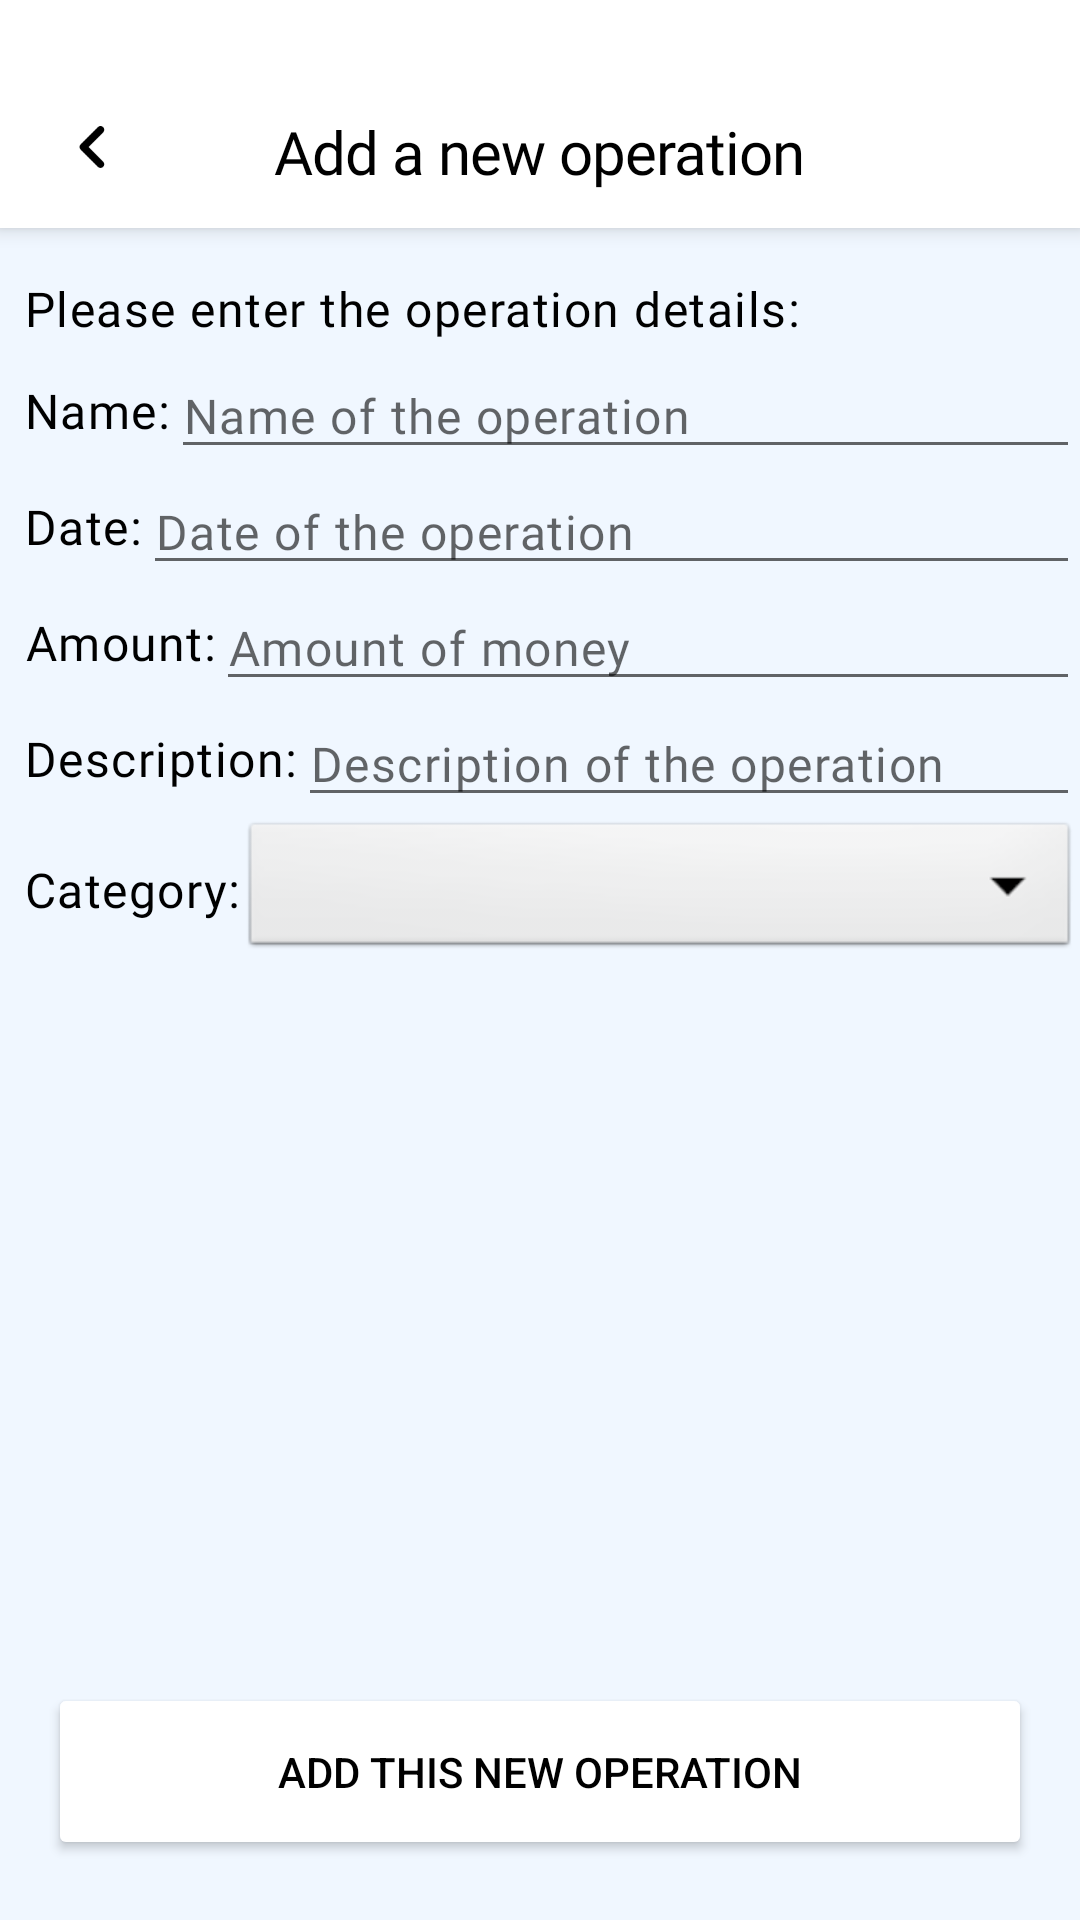

Locate icon controls on the screen. Image size 1080x1920, boxes as (x1, y1, x2, y2).
Return button: (79, 126, 105, 168)
